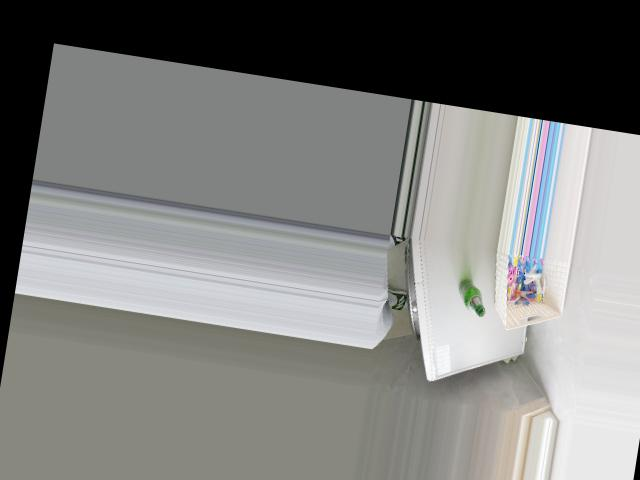beer: (454, 278, 488, 317)
